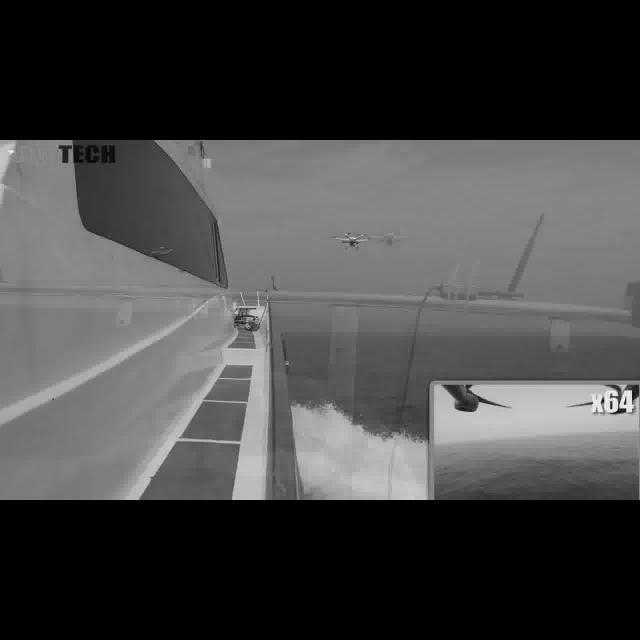Drons: (326, 228, 374, 255)
